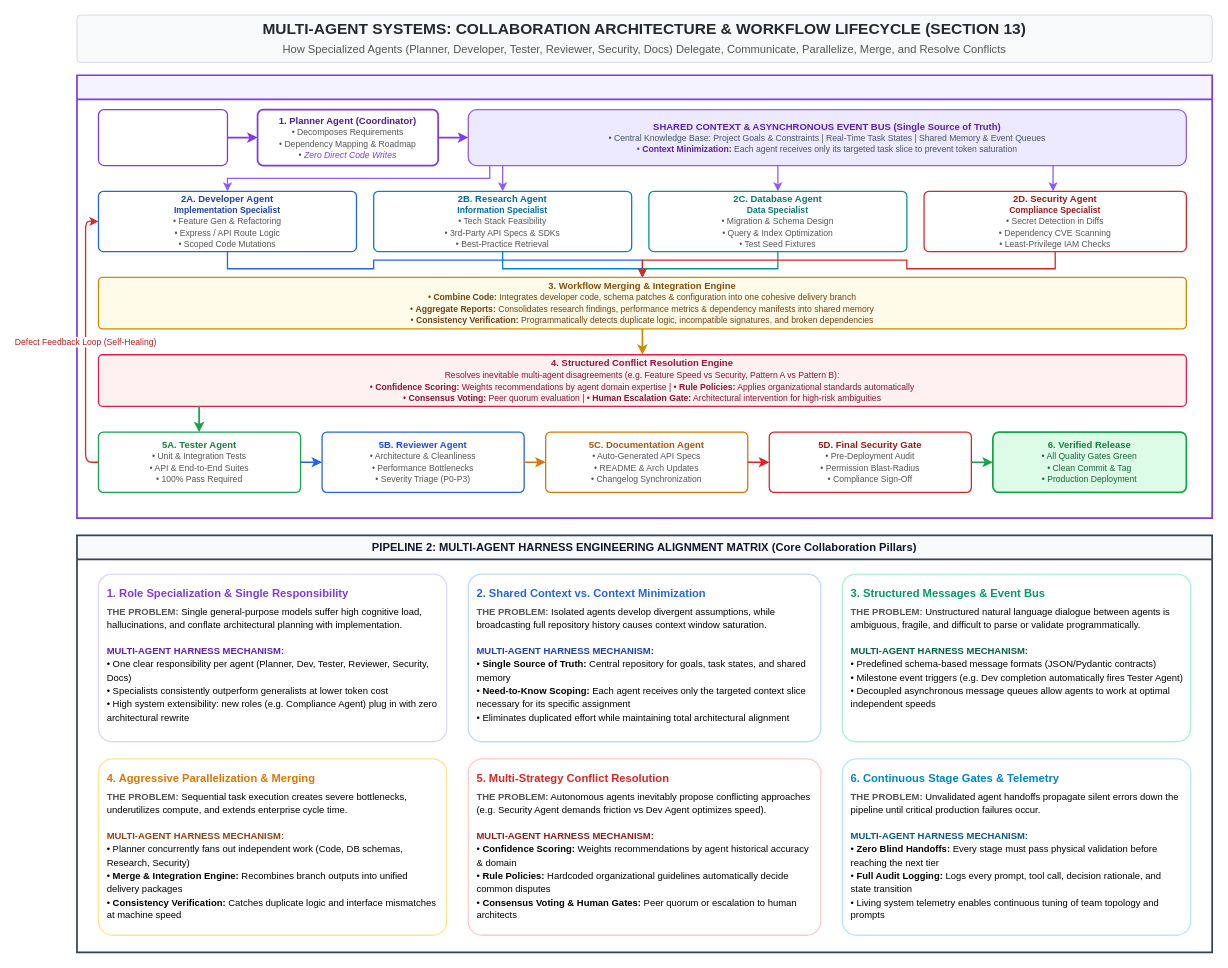
Some shapes in this 1228 by 968 pixel diagram are drawn without their labels. Each missing label, with the box of its shape:
Customer Request • Business Intent • Scope & SLAs: (97, 109, 228, 166)
PIPELINE 1: THE MULTI-AGENT COLLABORATION & EXECUTION PIPELINE: (76, 74, 1213, 519)
